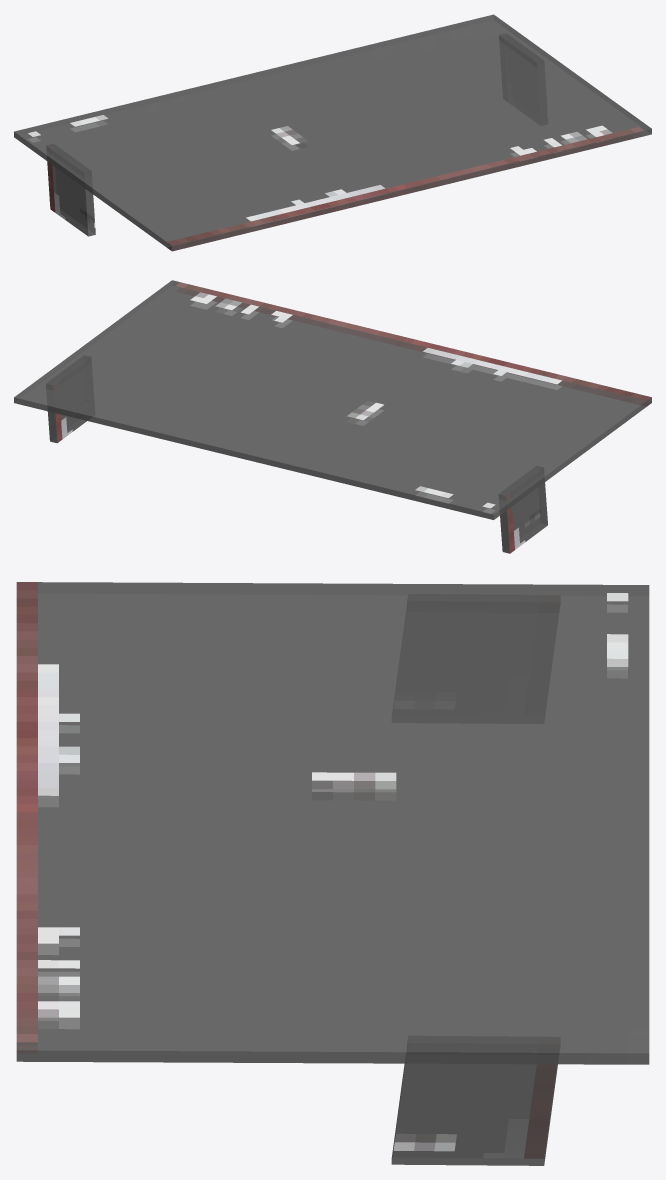
Rendered from cassete_tape_player_cap.glb.
3 renders of one model, top to bottom at view 1: azimuth 30°, elevation 25°; view 2: azimuth 150°, elevation 25°; view 3: azimuth 270°, elevation 25°, orthographic. The views are drawn at different scales.
Parts seen in each view (by area): view 1: Plane; view 2: Plane; view 3: Plane.
Part boxes in pixels (x1=…): Plane: x1=14, y1=14, x2=651, y2=251; Plane: x1=14, y1=280, x2=651, y2=553; Plane: x1=16, y1=582, x2=649, y2=1165.
Bounding box in the file's own units: 0.4493 × 0.0559 × 0.2565.
1 material, 1 textured.
